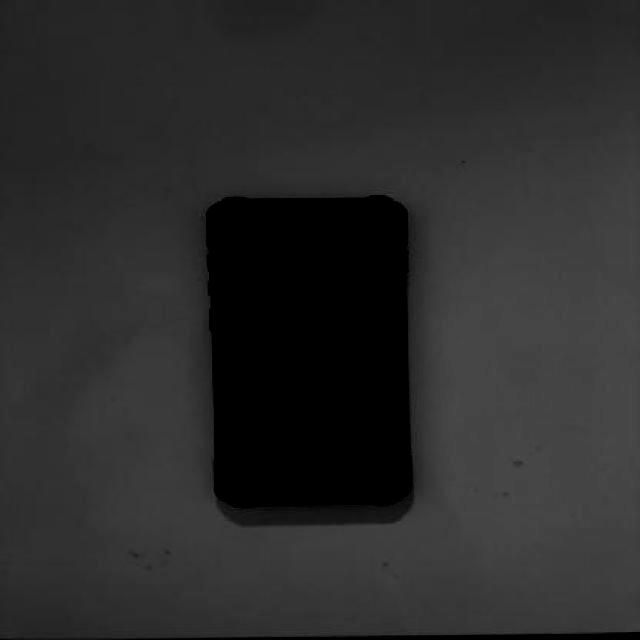fake: (202, 189, 410, 506)
